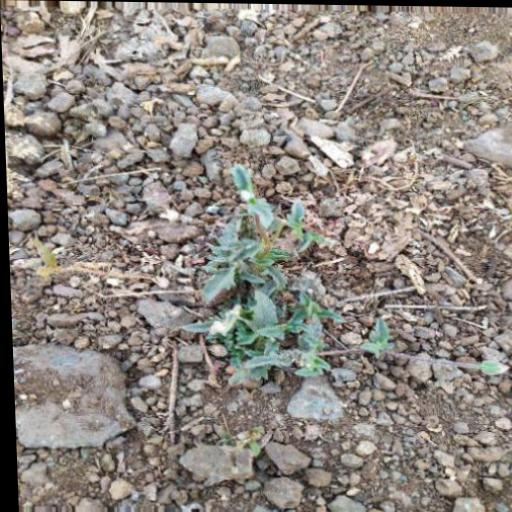weed: (186, 177, 395, 384)
